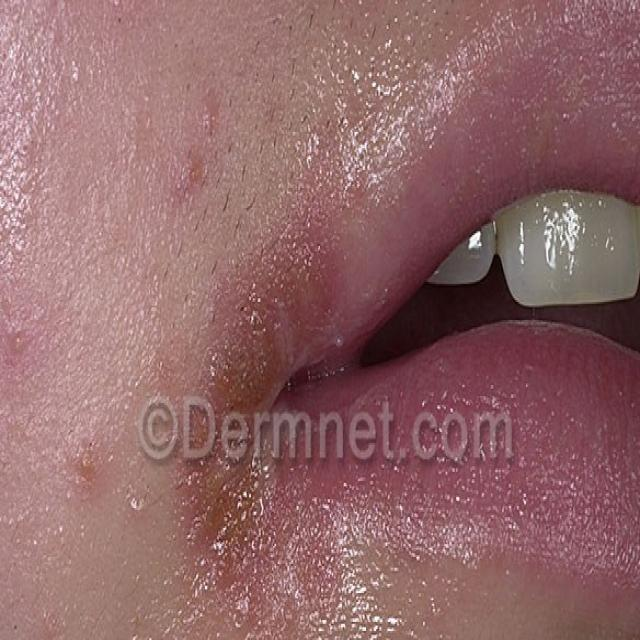Acne: (167, 246, 389, 601), (159, 118, 227, 221), (61, 414, 124, 519), (0, 318, 50, 388)
